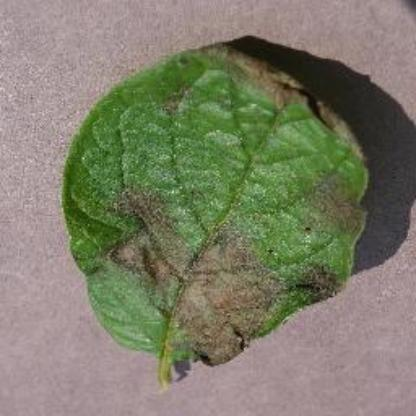Late-Blight: (53, 24, 395, 390)
